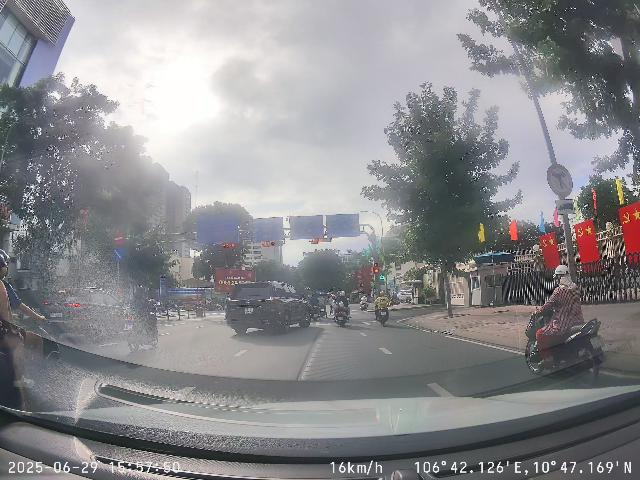137-cam-re-trai-va-re-phai: (547, 164, 573, 197)
